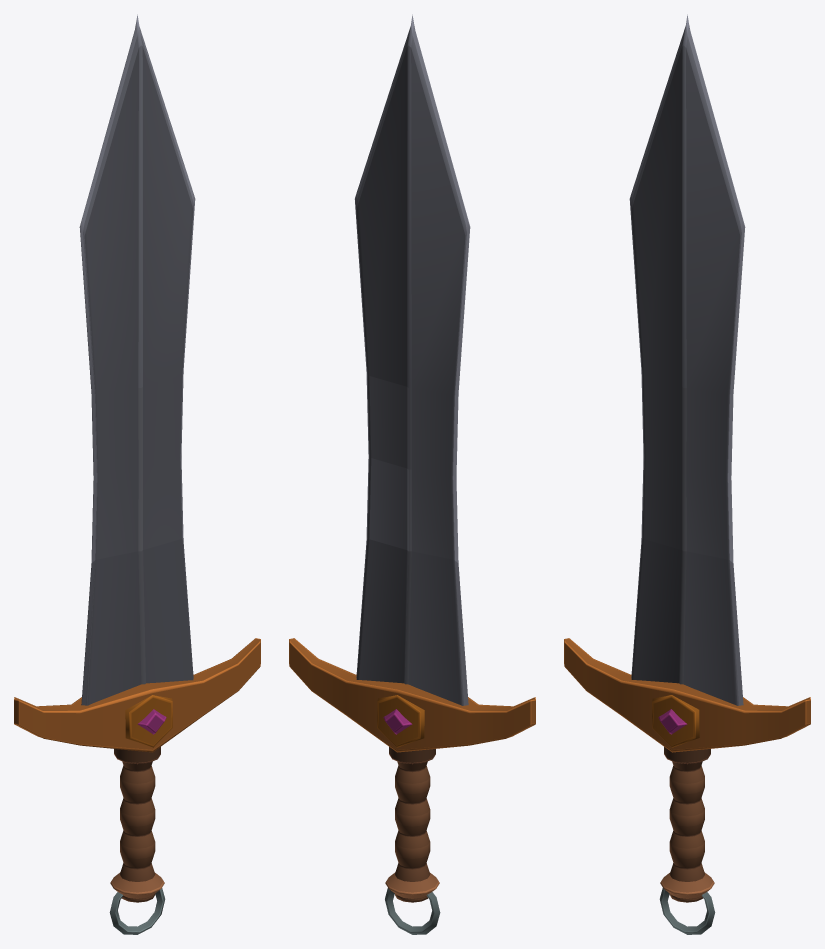
File: Sword_GameAssset.obj
3 renders of one model, left to right at view 1: azimuth 30°, elevation 25°; view 2: azimuth 150°, elevation 25°; view 3: azimuth 330°, elevation 25°, orthographic.
Parts seen in each view (by area): view 1: Blade; view 2: Blade; view 3: Blade.
Boxes of the visible parts, x1,y1,x2,y2 form: Blade: (14,14,260,934); Blade: (289,14,535,934); Blade: (564,14,810,934).
Size of the model in its own units: 4.54 by 16.18 by 1.16.
